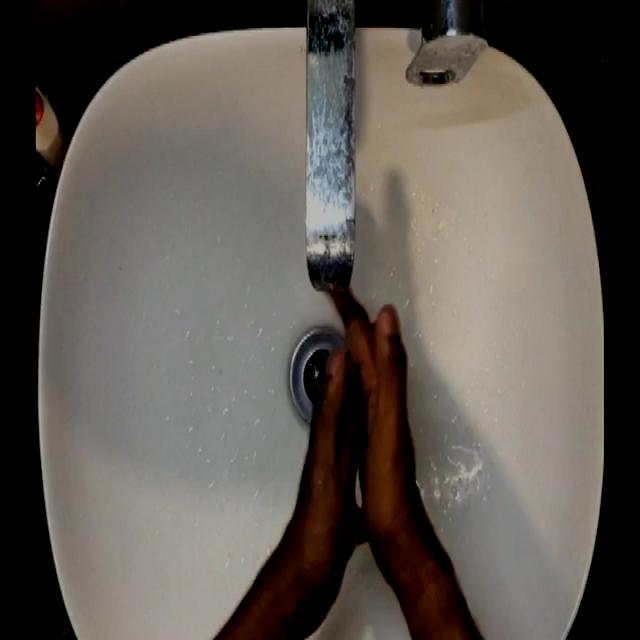step_3: (286, 265, 431, 567)
